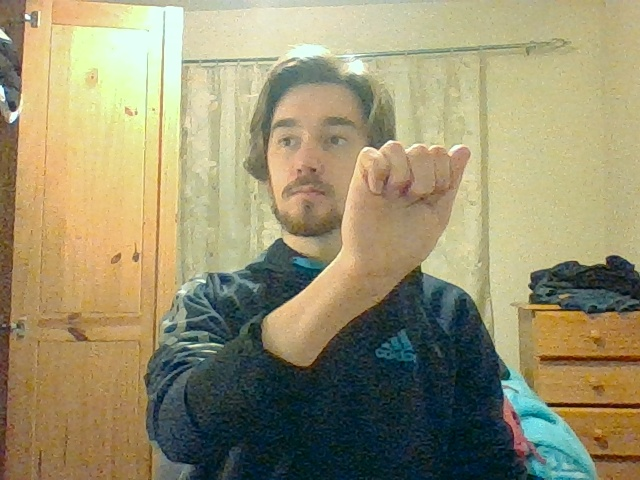your: (342, 139, 471, 272)
